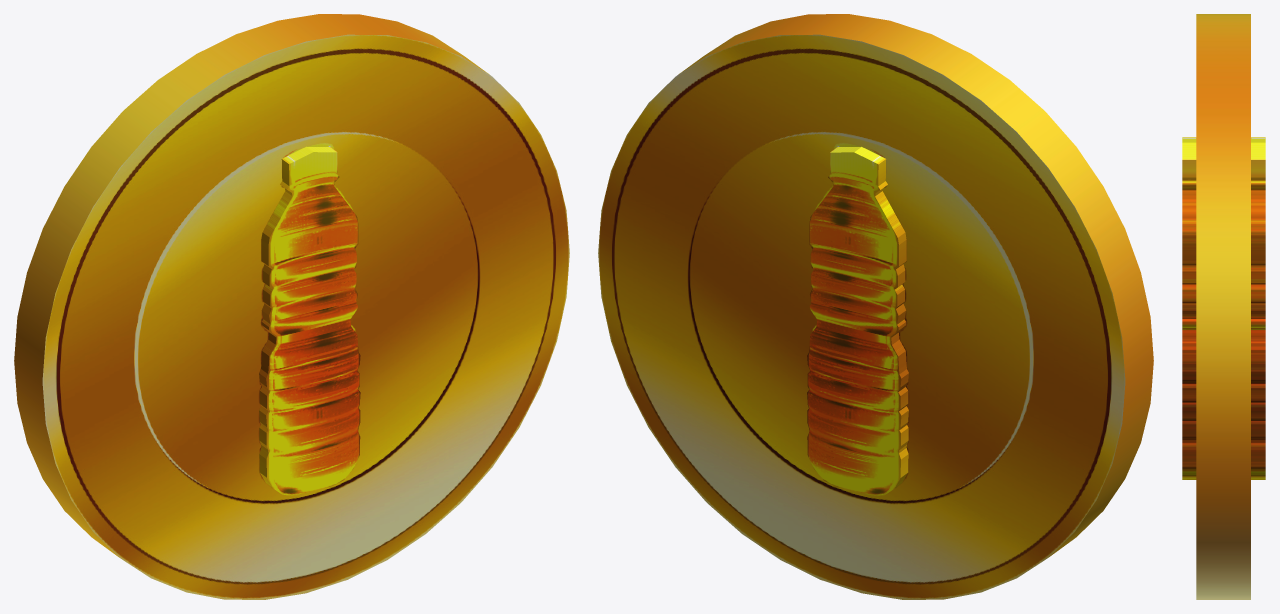
Rendered from Bottle Coins.FBX.
3 views of the same model, side by side, from view 1: azimuth 30°, elevation 25°; view 2: azimuth 150°, elevation 25°; view 3: azimuth 270°, elevation 25° (orthographic). The views are drawn at different scales.
Visible parts, largest first — view 1: Cylinder001; view 2: Cylinder001; view 3: Cylinder001.
Boxes of the visible parts, x1,y1,x2,y2 form: Cylinder001: [14, 14, 569, 599]; Cylinder001: [598, 14, 1153, 599]; Cylinder001: [1182, 14, 1265, 599].
Size of the model in its own units: 141 by 141 by 20.
Materials: 2 (2 with a texture image).
